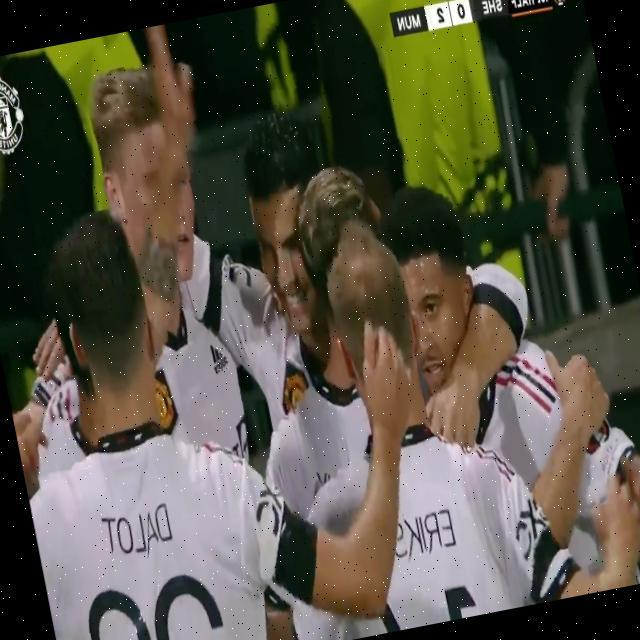Adidas: (208, 341, 231, 377)
